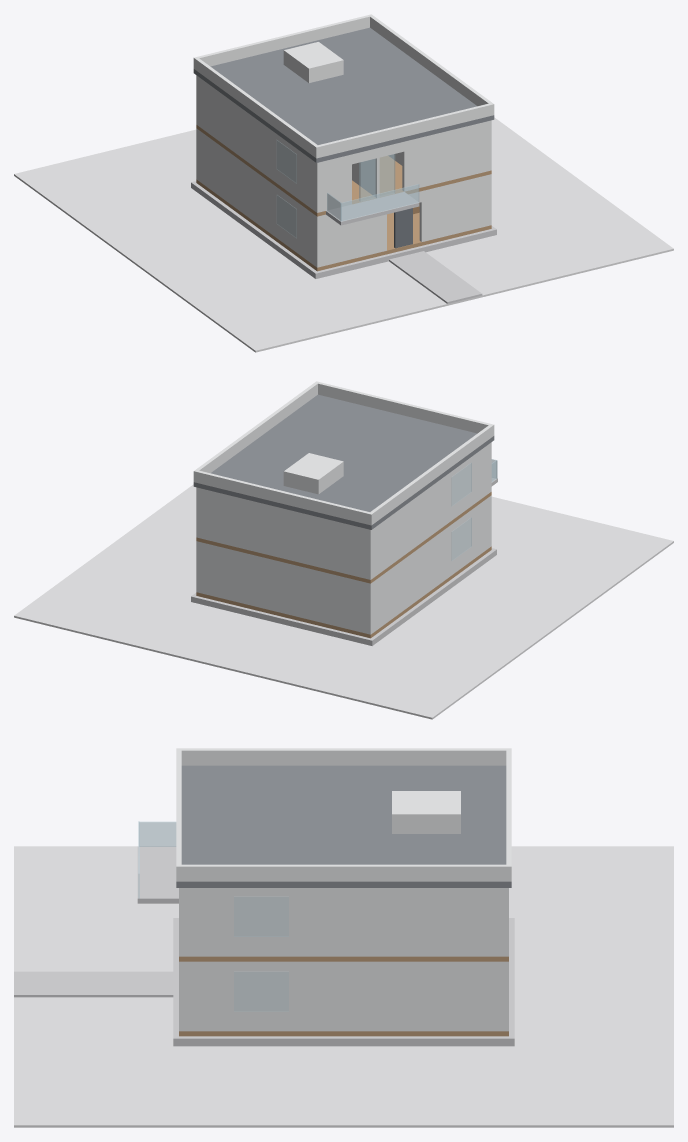
File: BuildSphere_TestBuilding.fbx
3 renders of one model, top to bottom at view 1: azimuth 30°, elevation 25°; view 2: azimuth 150°, elevation 25°; view 3: azimuth 270°, elevation 25°, orthographic. The views are drawn at different scales.
Visible parts, largest first — view 1: BS_Ground_Terrain, BS_Roof_Slab, BS_Wall_Exterior_Ground_West, BS_Wall_Exterior_First_West, BS_Wall_Exterior_First_South_Right, BS_Wall_Exterior_Ground_South_Right, BS_Wall_Exterior_Ground_South_Left, BS_Foundation_Slab, BS_Roof_Parapet_South, BS_Roof_Parapet_North, BS_Pathway_Front, BS_Wall_Exterior_First_South_Left (+14 smaller); view 2: BS_Ground_Terrain, BS_Roof_Slab, BS_Wall_Exterior_Ground_North, BS_Wall_Exterior_First_North, BS_Wall_Exterior_Ground_West, BS_Wall_Exterior_First_West, BS_Foundation_Slab, BS_Roof_Parapet_North, BS_Roof_Parapet_South, BS_Roof_Parapet_West, BS_Roof_Access_Enclosure, BS_Roof_Parapet_East (+4 smaller); view 3: BS_Ground_Terrain, BS_Roof_Slab, BS_Wall_Exterior_Ground_East, BS_Wall_Exterior_First_East, BS_Roof_Parapet_East, BS_Roof_Parapet_West, BS_Foundation_Slab, BS_Pathway_Front, BS_Roof_Access_Enclosure, BS_Balcony_Slab, BS_Window_F_Bed2_East, BS_Window_G_Kitchen_East (+5 smaller).
Boxes of the visible parts, x1=… form: BS_Ground_Terrain: x1=14, y1=117, x2=673, y2=352; BS_Roof_Slab: x1=193, y1=27, x2=494, y2=162; BS_Wall_Exterior_Ground_West: x1=196, y1=129, x2=317, y2=265; BS_Wall_Exterior_First_West: x1=196, y1=75, x2=320, y2=212; BS_Wall_Exterior_First_South_Right: x1=402, y1=120, x2=491, y2=191; BS_Wall_Exterior_Ground_South_Right: x1=419, y1=174, x2=491, y2=241; BS_Wall_Exterior_Ground_South_Left: x1=315, y1=214, x2=386, y2=267; BS_Foundation_Slab: x1=191, y1=181, x2=496, y2=278; BS_Roof_Parapet_South: x1=315, y1=103, x2=494, y2=158; BS_Roof_Parapet_North: x1=194, y1=14, x2=372, y2=66; BS_Pathway_Front: x1=389, y1=251, x2=482, y2=303; BS_Wall_Exterior_First_South_Left: x1=315, y1=154, x2=351, y2=212; BS_Ground_Terrain: x1=14, y1=484, x2=673, y2=719; BS_Roof_Slab: x1=193, y1=394, x2=494, y2=529; BS_Wall_Exterior_Ground_North: x1=196, y1=542, x2=372, y2=634; BS_Wall_Exterior_First_North: x1=196, y1=488, x2=372, y2=579; BS_Wall_Exterior_Ground_West: x1=368, y1=495, x2=491, y2=632; BS_Wall_Exterior_First_West: x1=368, y1=442, x2=491, y2=578; BS_Foundation_Slab: x1=191, y1=548, x2=496, y2=645; BS_Roof_Parapet_North: x1=193, y1=470, x2=372, y2=525; BS_Roof_Parapet_South: x1=316, y1=381, x2=493, y2=433; BS_Roof_Parapet_West: x1=368, y1=425, x2=494, y2=524; BS_Roof_Access_Enclosure: x1=283, y1=453, x2=343, y2=494; BS_Roof_Parapet_East: x1=193, y1=381, x2=319, y2=482; BS_Ground_Terrain: x1=14, y1=846, x2=673, y2=1127; BS_Roof_Slab: x1=176, y1=765, x2=511, y2=887; BS_Wall_Exterior_Ground_East: x1=179, y1=961, x2=508, y2=1031; BS_Wall_Exterior_First_East: x1=179, y1=888, x2=508, y2=956; BS_Roof_Parapet_East: x1=176, y1=864, x2=511, y2=881; BS_Roof_Parapet_West: x1=176, y1=748, x2=511, y2=765; BS_Foundation_Slab: x1=173, y1=918, x2=514, y2=1046; BS_Pathway_Front: x1=14, y1=971, x2=173, y2=997; BS_Roof_Access_Enclosure: x1=392, y1=791, x2=460, y2=833; BS_Balcony_Slab: x1=137, y1=846, x2=178, y2=903; BS_Window_F_Bed2_East: x1=234, y1=897, x2=288, y2=936; BS_Window_G_Kitchen_East: x1=234, y1=972, x2=288, y2=1011.
Size of the model in its own units: 24 by 7.45 by 24.
